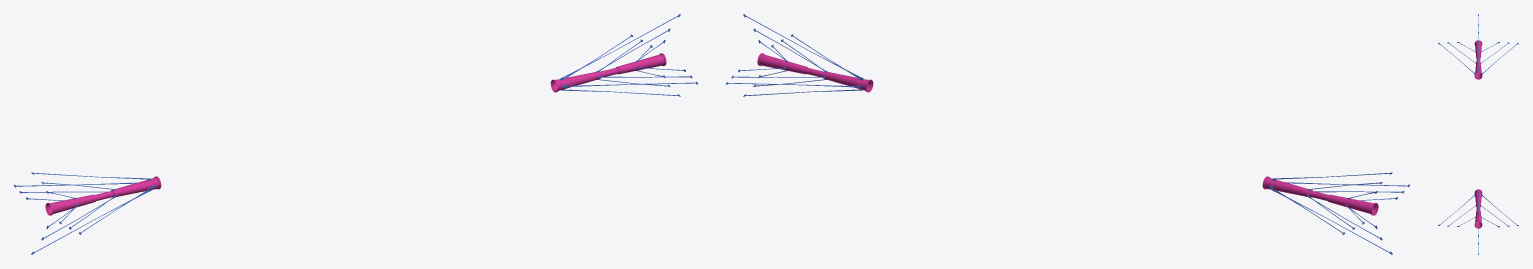
File: station_spokes_2-5k10k.dae
The picture shows the model from 3 angles, left to right: view 1: azimuth 30°, elevation 25°; view 2: azimuth 150°, elevation 25°; view 3: azimuth 270°, elevation 25°; orthographic projection. The views are drawn at different scales.
Parts seen in each view (by area): view 1: strut_proced_005, spoke_002; view 2: strut_proced_005, spoke_002; view 3: strut_proced_005, spoke_002.
Boxes of the visible parts, x1=… form: strut_proced_005: x1=14, y1=14, x2=697, y2=254; spoke_002: x1=45, y1=53, x2=666, y2=215; strut_proced_005: x1=726, y1=14, x2=1409, y2=254; spoke_002: x1=757, y1=53, x2=1378, y2=215; strut_proced_005: x1=1438, y1=14, x2=1518, y2=254; spoke_002: x1=1474, y1=40, x2=1482, y2=228.
Size of the model in its own units: 9728 by 1739 by 1176.
